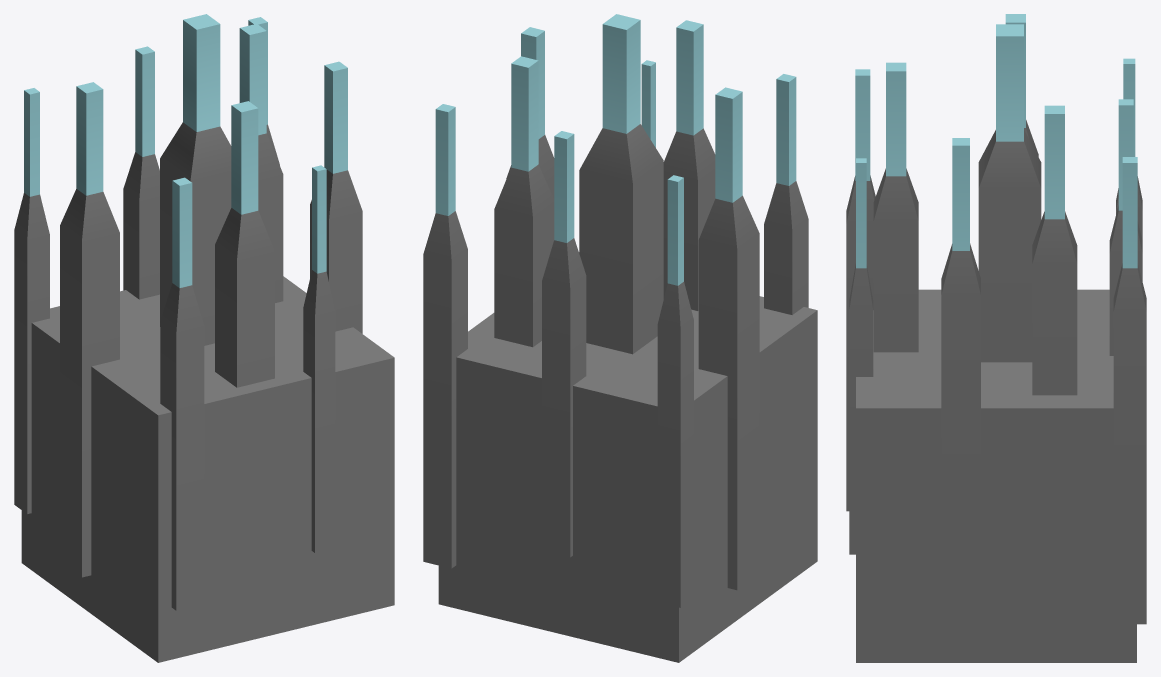
The model's file is AnotherLight3.fbx.
3 views of the same model, side by side, from view 1: azimuth 30°, elevation 25°; view 2: azimuth 150°, elevation 25°; view 3: azimuth 270°, elevation 25° (orthographic). The views are drawn at different scales.
Parts seen in each view (by area): view 1: anotherlight3; view 2: anotherlight3; view 3: anotherlight3.
Part boxes in pixels (x1,y1,x2,y2): anotherlight3: (14,14,394,662); anotherlight3: (423,14,817,662); anotherlight3: (846,14,1146,662).
Size of the model in its own units: 10.66 by 22.12 by 10.5.
